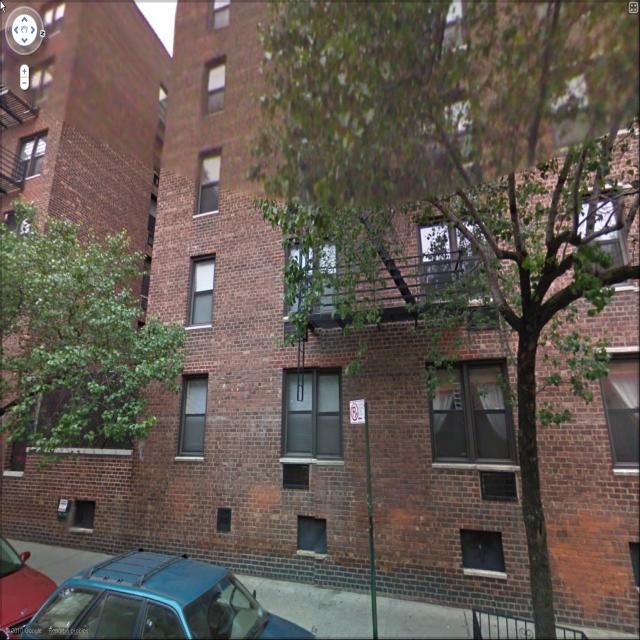b_2: (168, 1, 640, 638), (1, 1, 158, 551)
